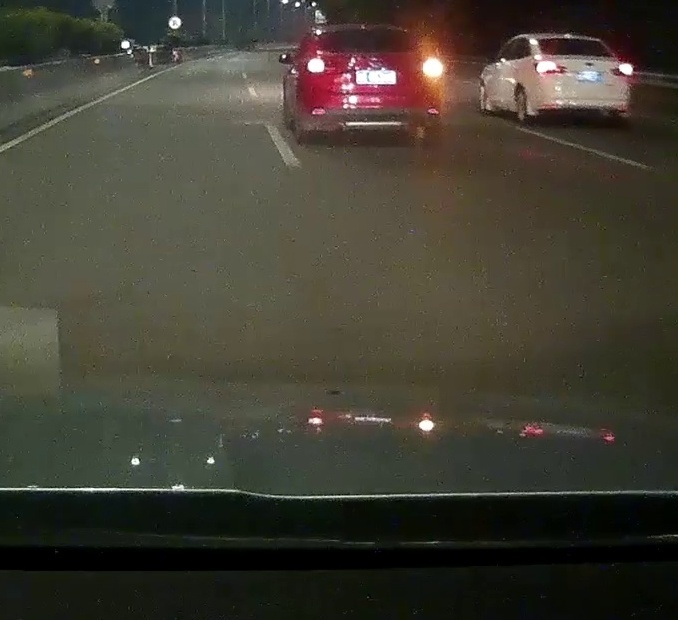L_light: (535, 62, 565, 75), (305, 58, 329, 74)
R_light: (422, 59, 441, 75), (610, 64, 632, 76)
T_light: (358, 30, 379, 35), (567, 39, 582, 43)
night-no: (529, 32, 633, 123)
night-right: (298, 22, 442, 144)
